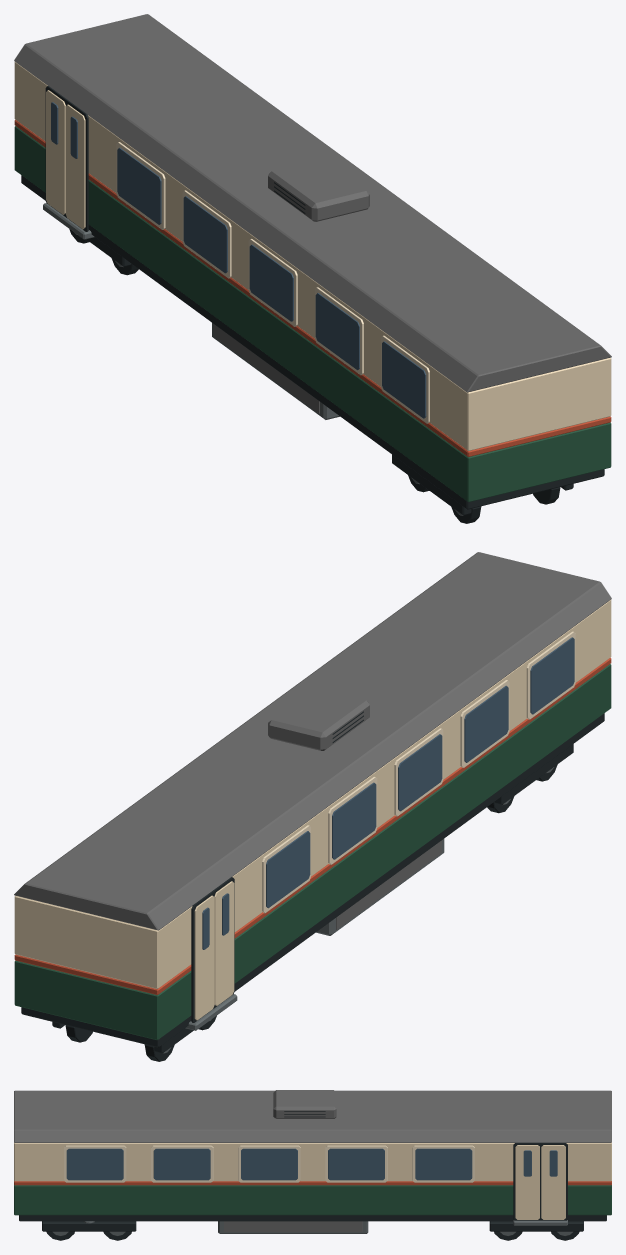
Rendered from Coach.fbx.
3 renders of one model, top to bottom at view 1: azimuth 30°, elevation 25°; view 2: azimuth 150°, elevation 25°; view 3: azimuth 270°, elevation 25°, orthographic. The views are drawn at different scales.
Visible parts, largest first — view 1: Roof.001, LowerBody.001, UpperBody.001, Chassis.001, RoofHVAC.001, WaistStripe.001, WindowGlass_-1_0.001, WindowGlass_-1_4, WindowGlass_-1_2.001, WindowGlass_-1_1.001, WindowGlass_-1_3.001, DoorPanel_-1_0.001 (+9 smaller); view 2: Roof.001, LowerBody.001, UpperBody.001, Chassis.001, RoofHVAC.001, WaistStripe.001, WindowGlass_-1_1.001, WindowGlass_-1_0.001, WindowGlass_-1_3.001, WindowGlass_-1_2.001, WindowGlass_-1_4, DoorPanel_-1_1.001 (+9 smaller); view 3: Roof.001, LowerBody.001, UpperBody.001, Chassis.001, WaistStripe.001, WindowGlass_1_0.001, WindowGlass_1_1.001, WindowGlass_1_4, WindowGlass_1_2.001, WindowGlass_1_3.001, RoofHVAC.001, DoorPanel_1_1.001 (+14 smaller).
Part boxes in pixels (left/top/right/bottom): Roof.001: left=14, top=14, right=611, bottom=392; LowerBody.001: left=14, top=126, right=611, bottom=502; UpperBody.001: left=14, top=62, right=611, bottom=450; Chassis.001: left=21, top=175, right=604, bottom=509; RoofHVAC.001: left=268, top=158, right=369, bottom=221; WaistStripe.001: left=14, top=119, right=611, bottom=456; WindowGlass_-1_0.001: left=382, top=341, right=426, bottom=418; WindowGlass_-1_4: left=117, top=147, right=161, bottom=224; WindowGlass_-1_2.001: left=249, top=244, right=293, bottom=321; WindowGlass_-1_1.001: left=315, top=293, right=359, bottom=370; WindowGlass_-1_3.001: left=183, top=196, right=227, bottom=273; DoorPanel_-1_0.001: left=65, top=104, right=85, bottom=229; Roof.001: left=14, top=552, right=611, bottom=930; LowerBody.001: left=14, top=664, right=611, bottom=1040; UpperBody.001: left=14, top=600, right=611, bottom=988; Chassis.001: left=21, top=713, right=604, bottom=1047; RoofHVAC.001: left=268, top=688, right=369, bottom=750; WaistStripe.001: left=14, top=657, right=611, bottom=994; WindowGlass_-1_1.001: left=464, top=685, right=508, bottom=762; WindowGlass_-1_0.001: left=530, top=637, right=574, bottom=714; WindowGlass_-1_3.001: left=332, top=782, right=376, bottom=859; WindowGlass_-1_2.001: left=398, top=734, right=442, bottom=811; WindowGlass_-1_4: left=266, top=831, right=310, bottom=908; DoorPanel_-1_1.001: left=194, top=895, right=214, bottom=1020; Roof.001: left=14, top=1090, right=611, bottom=1142; LowerBody.001: left=14, top=1185, right=611, bottom=1215; UpperBody.001: left=14, top=1142, right=611, bottom=1181; Chassis.001: left=19, top=1215, right=606, bottom=1221; WaistStripe.001: left=14, top=1181, right=611, bottom=1185; WindowGlass_1_0.001: left=66, top=1148, right=123, bottom=1180; WindowGlass_1_1.001: left=153, top=1148, right=210, bottom=1180; WindowGlass_1_4: left=415, top=1148, right=472, bottom=1180; WindowGlass_1_2.001: left=241, top=1148, right=297, bottom=1180; WindowGlass_1_3.001: left=328, top=1148, right=384, bottom=1180; RoofHVAC.001: left=273, top=1090, right=336, bottom=1118; DoorPanel_1_1.001: left=541, top=1145, right=565, bottom=1219.
Size of the model in its own units: 2.96 by 3.58 by 15.1.
